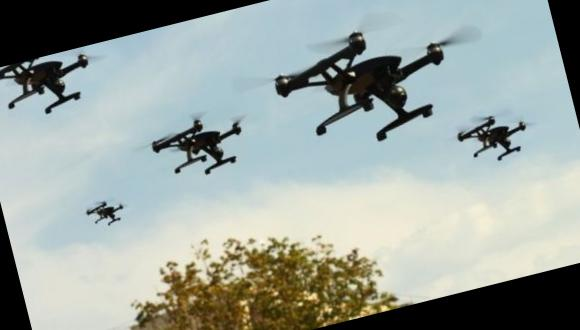drone: (250, 3, 488, 174), (130, 98, 266, 197), (0, 43, 118, 146), (447, 104, 541, 176), (74, 190, 135, 237)
